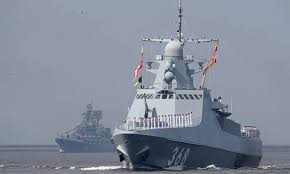tau_muctieu: (119, 32, 266, 167)
